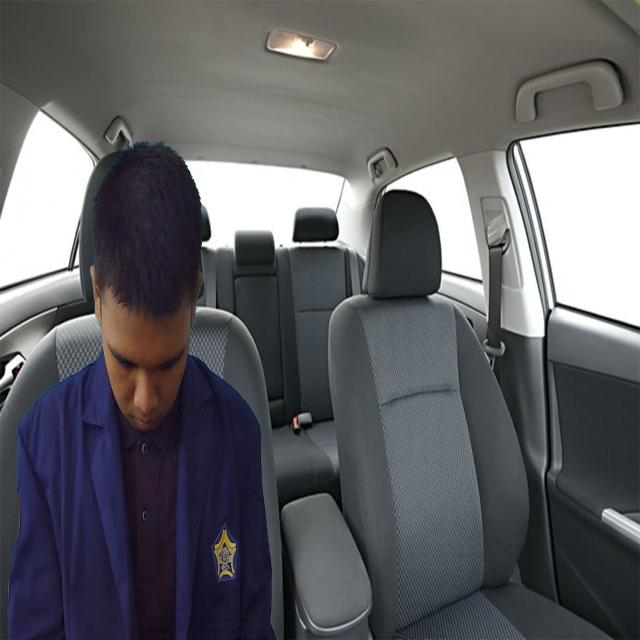no-seatbelt: (103, 272, 192, 444)
